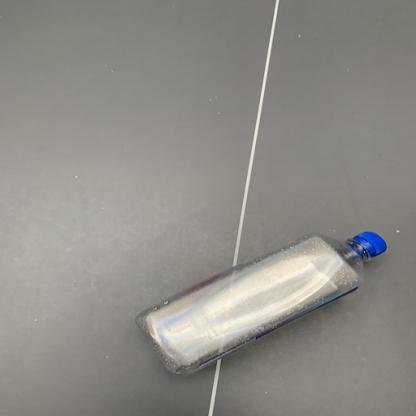trash: (128, 227, 392, 382)
